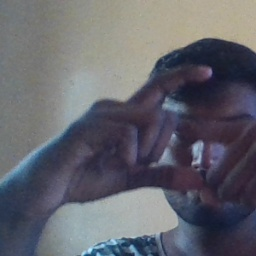E: (124, 66, 230, 191)
